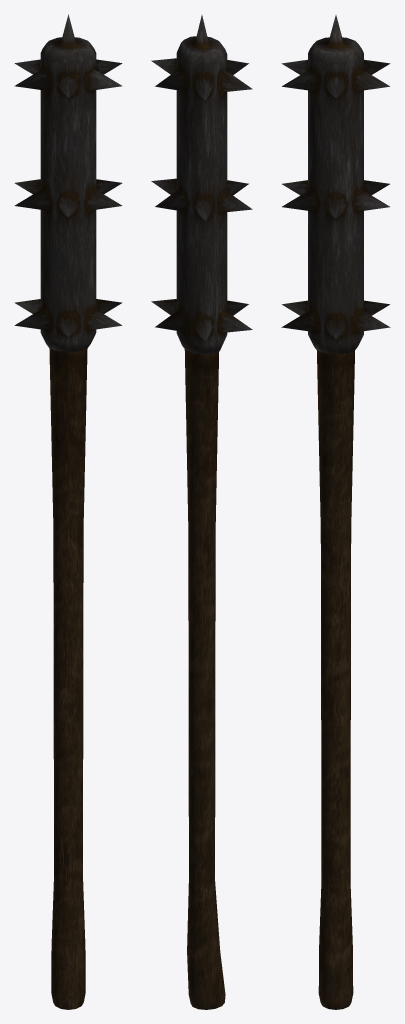
File: Bulava1.fbx
3 renders of one model, left to right at view 1: azimuth 90°, elevation 25°; view 2: azimuth 210°, elevation 25°; view 3: azimuth 270°, elevation 25°, orthographic.
Parts seen in each view (by area): view 1: Cylinder.002; view 2: Cylinder.002; view 3: Cylinder.002.
Part boxes in pixels (bbox=[...]): Cylinder.002: bbox=[14, 14, 122, 1009]; Cylinder.002: bbox=[151, 15, 252, 1009]; Cylinder.002: bbox=[281, 15, 390, 1009].
Size of the model in its own units: 8 by 80 by 8.
